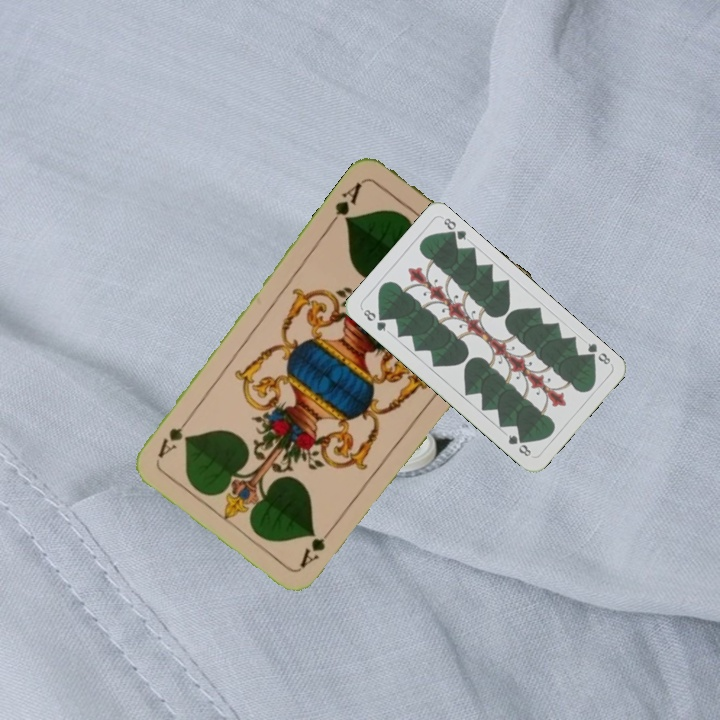G8: (359, 305, 389, 334), (582, 339, 613, 367)
GA: (295, 520, 338, 571), (325, 177, 367, 228)
